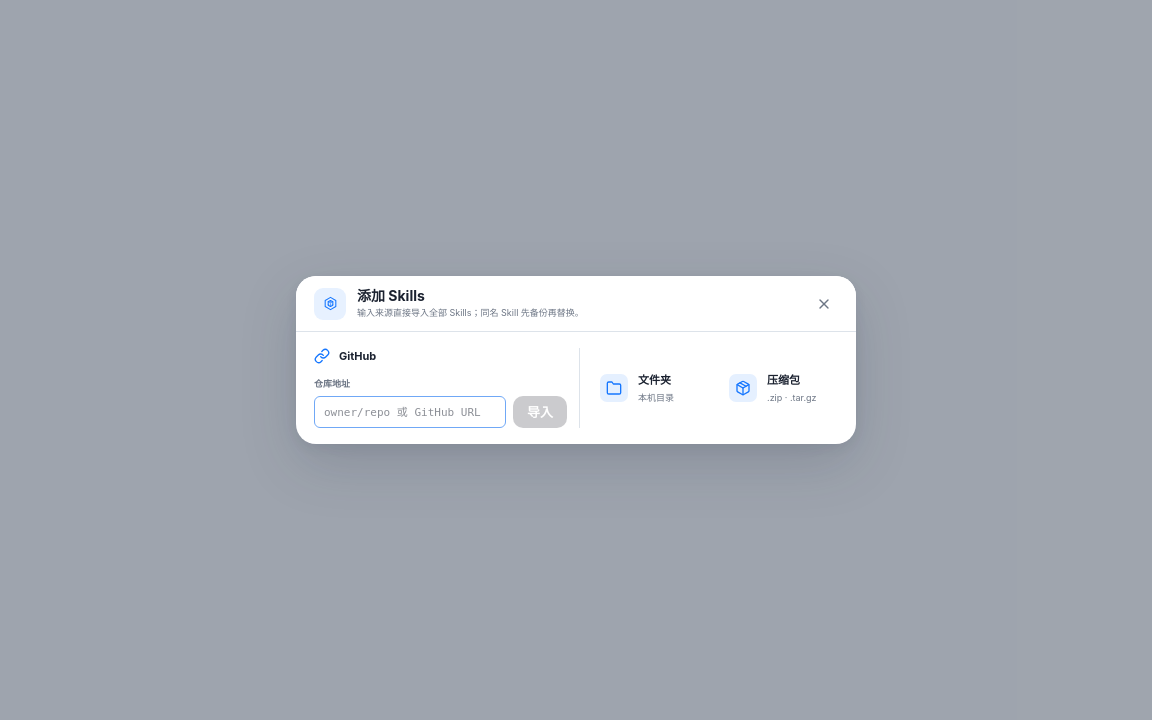
SkillInstallDialog central asset intake › imports an archive directly without opening an audit dialog
Click the button with aria-label "选择 Skill 压缩包".
click(778, 388)  # box top-left (717, 348), bottom-right (838, 428)
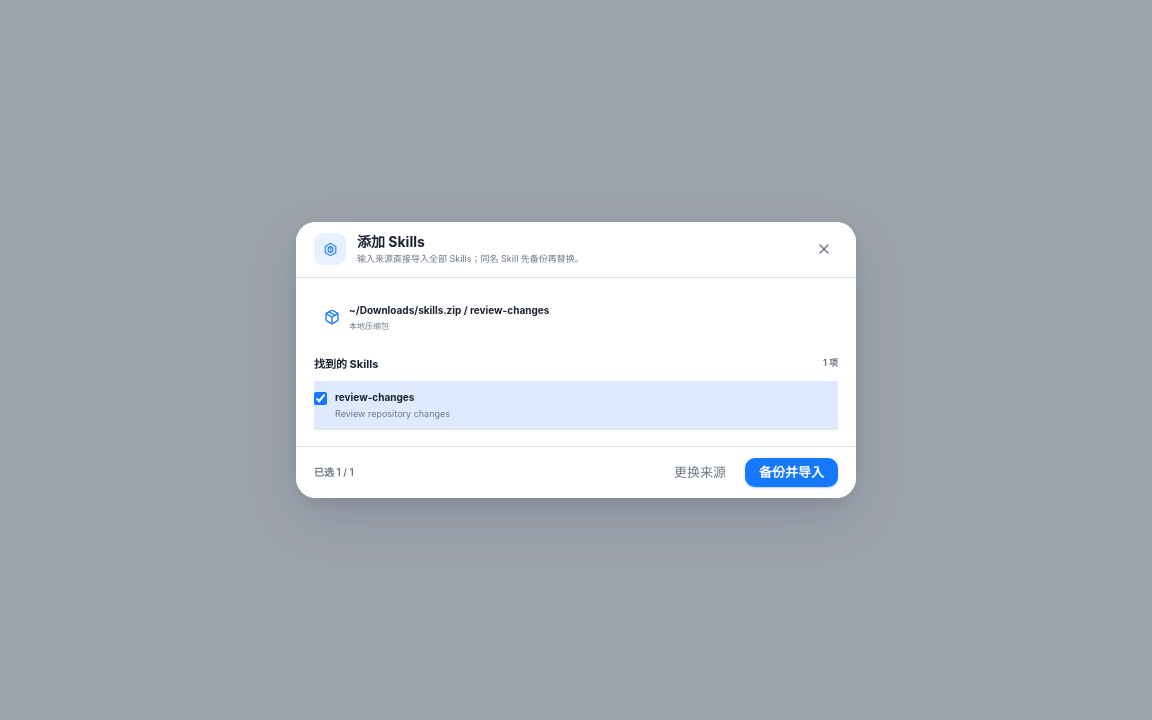
Check: the checkbox labelled "review-changes" is shown, box top-left (314, 392), bottom-right (327, 404)
